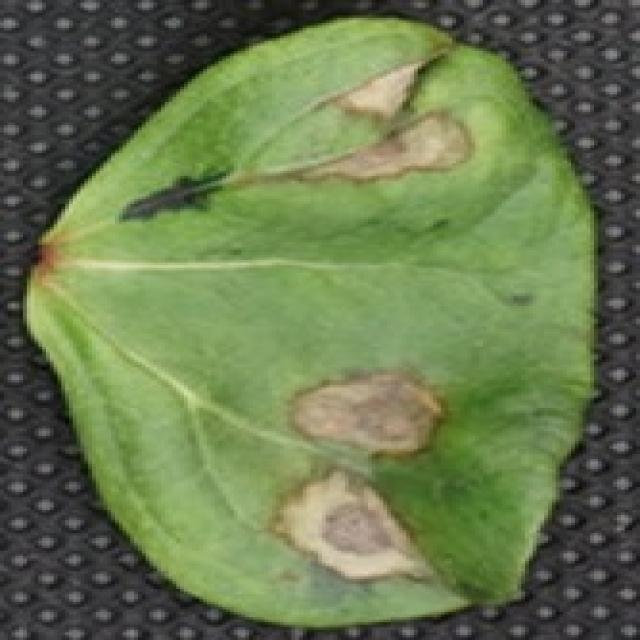Fusarium Wilt: (250, 358, 461, 593), (263, 73, 489, 211)
